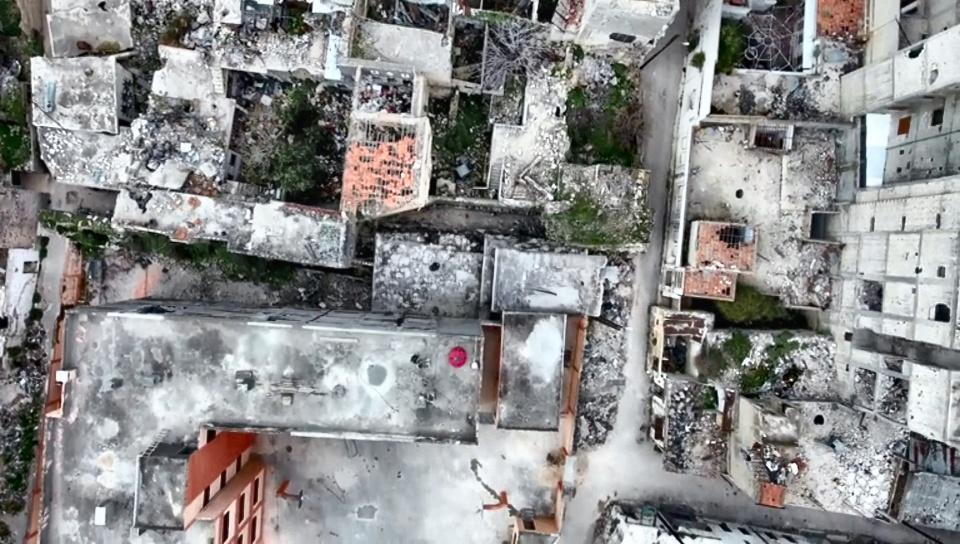kapali: (573, 252, 663, 468)
